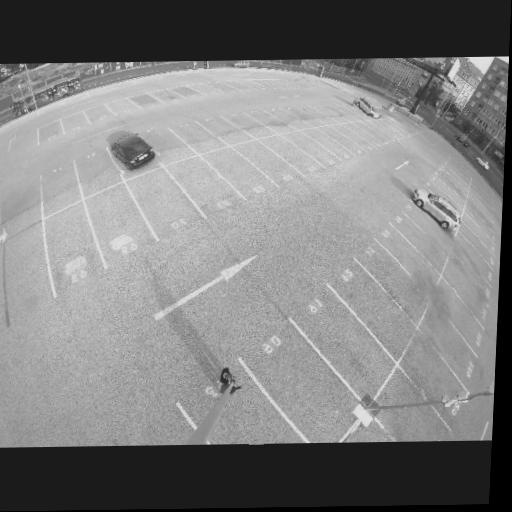busy: (108, 130, 162, 173), (411, 190, 462, 231), (351, 97, 383, 118)
free: (203, 394, 268, 445), (271, 362, 329, 404), (322, 327, 370, 362), (385, 398, 427, 438), (46, 221, 91, 256), (93, 202, 138, 236), (418, 372, 457, 406), (141, 184, 183, 214), (40, 175, 77, 202), (186, 170, 220, 194), (358, 296, 390, 320), (80, 160, 112, 183), (222, 160, 252, 180), (381, 273, 409, 294), (451, 277, 476, 298), (443, 336, 464, 359), (253, 150, 278, 168), (153, 139, 181, 155), (454, 309, 474, 331), (183, 129, 209, 145), (410, 231, 430, 249), (456, 257, 474, 275), (395, 247, 414, 262), (66, 116, 85, 130), (279, 146, 298, 159), (212, 126, 234, 137), (41, 127, 59, 139), (237, 118, 256, 129), (90, 110, 108, 121), (297, 139, 315, 150), (115, 102, 131, 113), (471, 253, 483, 267), (285, 115, 300, 126), (258, 115, 273, 125), (138, 97, 154, 106), (199, 86, 215, 95), (162, 93, 176, 102), (317, 138, 332, 146), (216, 86, 230, 94), (469, 235, 479, 246), (347, 134, 362, 141), (179, 91, 193, 98), (334, 134, 346, 142)
